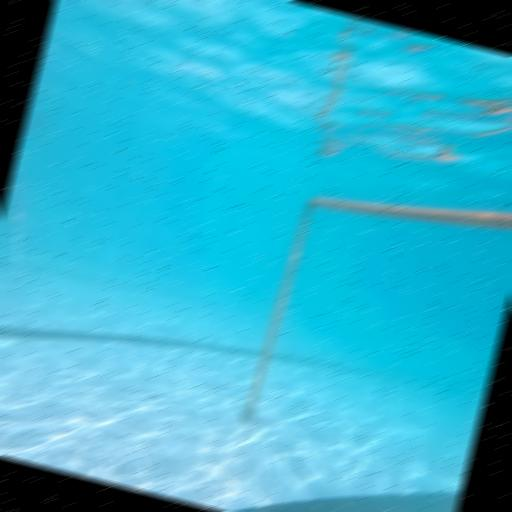gate: (217, 155, 512, 511)
